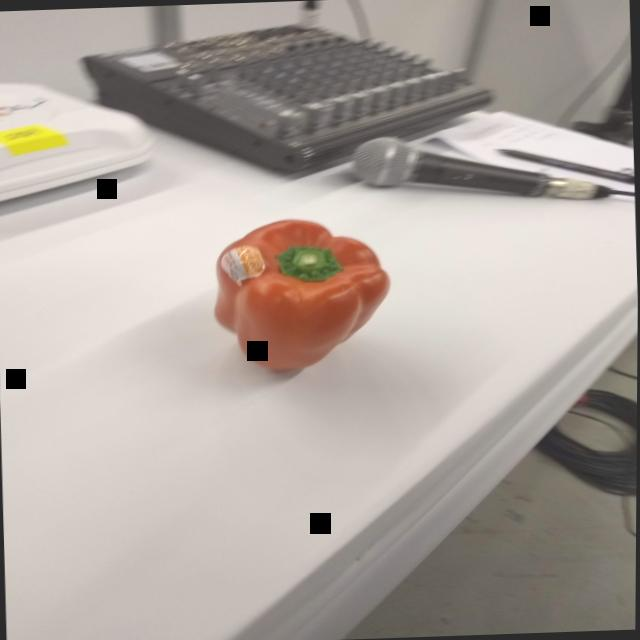paprika: (200, 213, 402, 378)
